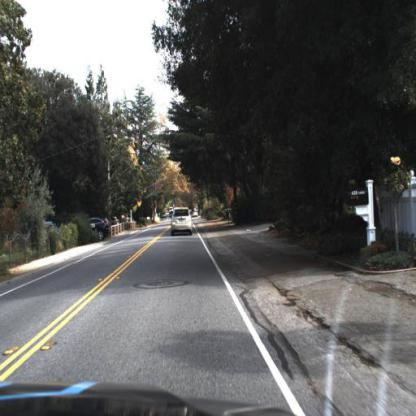car: (168, 207, 195, 239), (90, 216, 116, 243), (91, 215, 111, 240)
